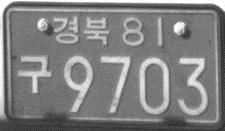0: (137, 57, 169, 115)
1: (152, 14, 166, 47)
3: (176, 56, 209, 117)
7: (98, 54, 135, 114)
8: (121, 15, 144, 45)
9: (62, 54, 95, 114)
경북_O: (51, 15, 109, 45)
구: (16, 54, 53, 94)
